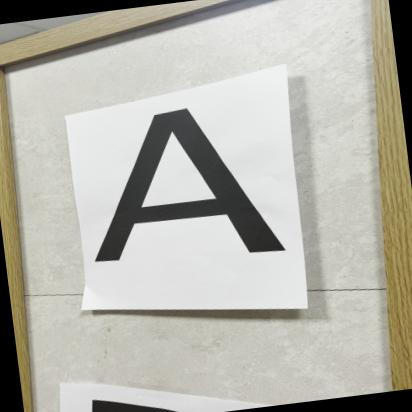seat: (88, 97, 292, 278)
